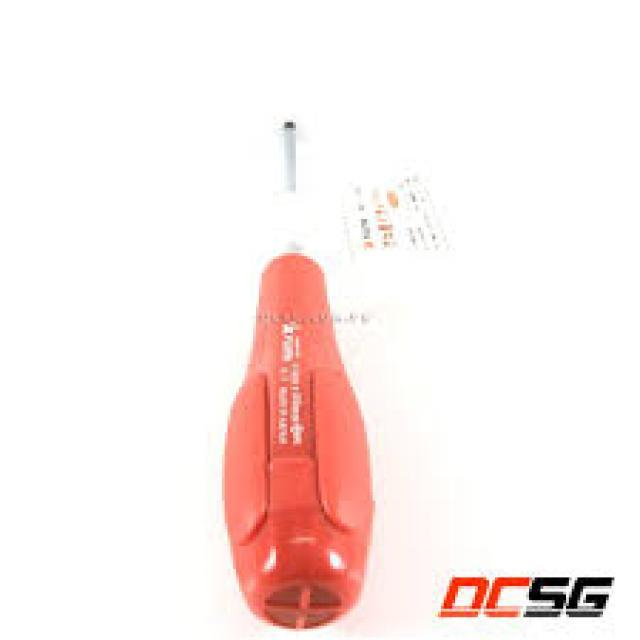screwdriver: (216, 113, 376, 634)
